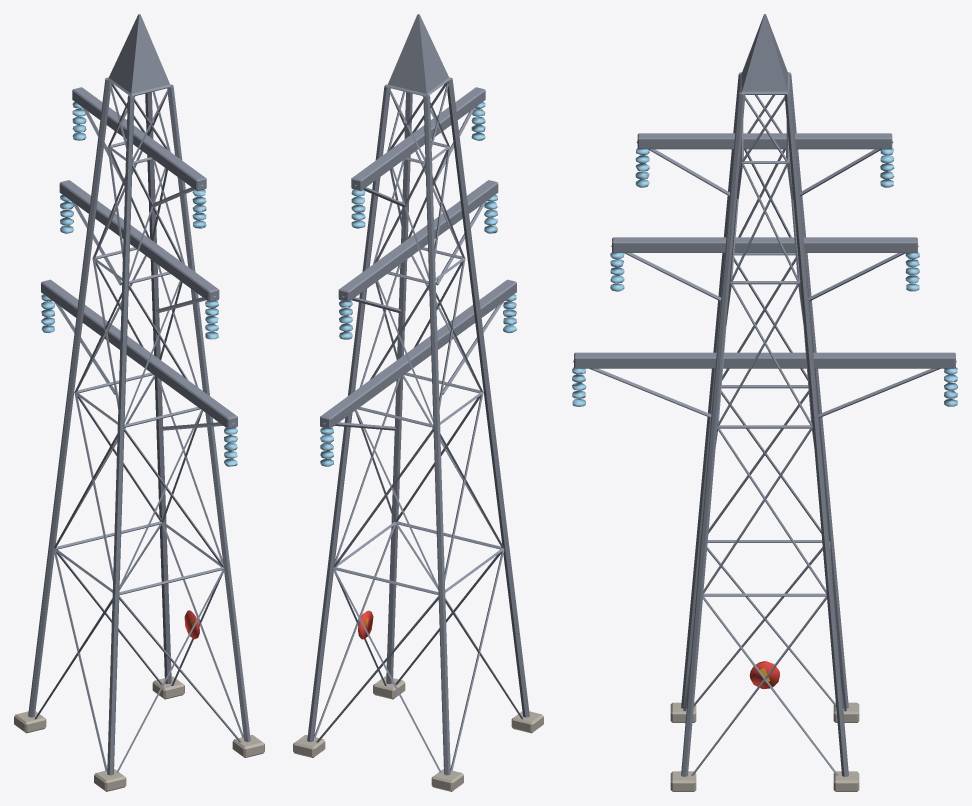
Rendered from pylon.glb.
3 renders of one model, left to right at view 1: azimuth 30°, elevation 25°; view 2: azimuth 150°, elevation 25°; view 3: azimuth 270°, elevation 25°, orthographic.
Parts seen in each view (by area): view 1: pylon; view 2: pylon; view 3: pylon.
Boxes of the visible parts, <box> form: pylon: <box>14,14,264,791</box>; pylon: <box>293,14,543,791</box>; pylon: <box>572,14,957,791</box>.
Bounding box in the file's own units: 7.4 × 32 × 15.15.
1 material, 1 textured.
